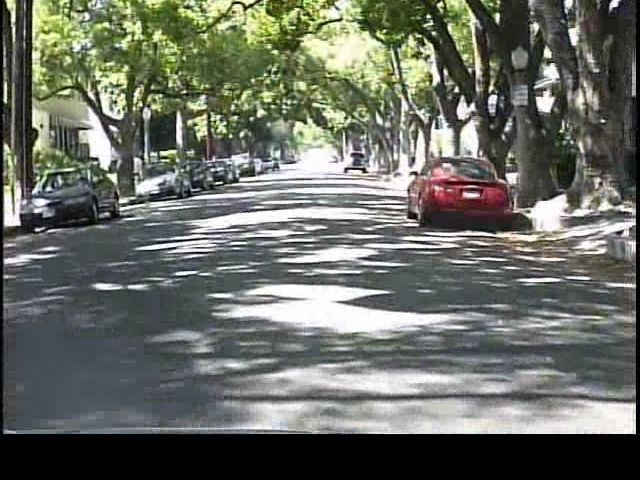person: (129, 150, 150, 194)
